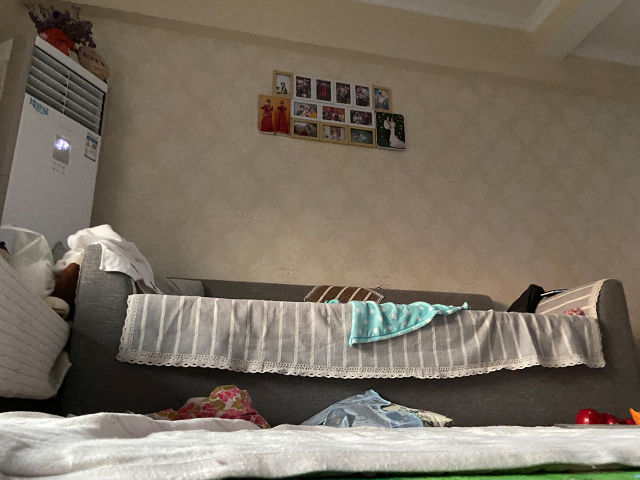sofa: (58, 243, 640, 425)
